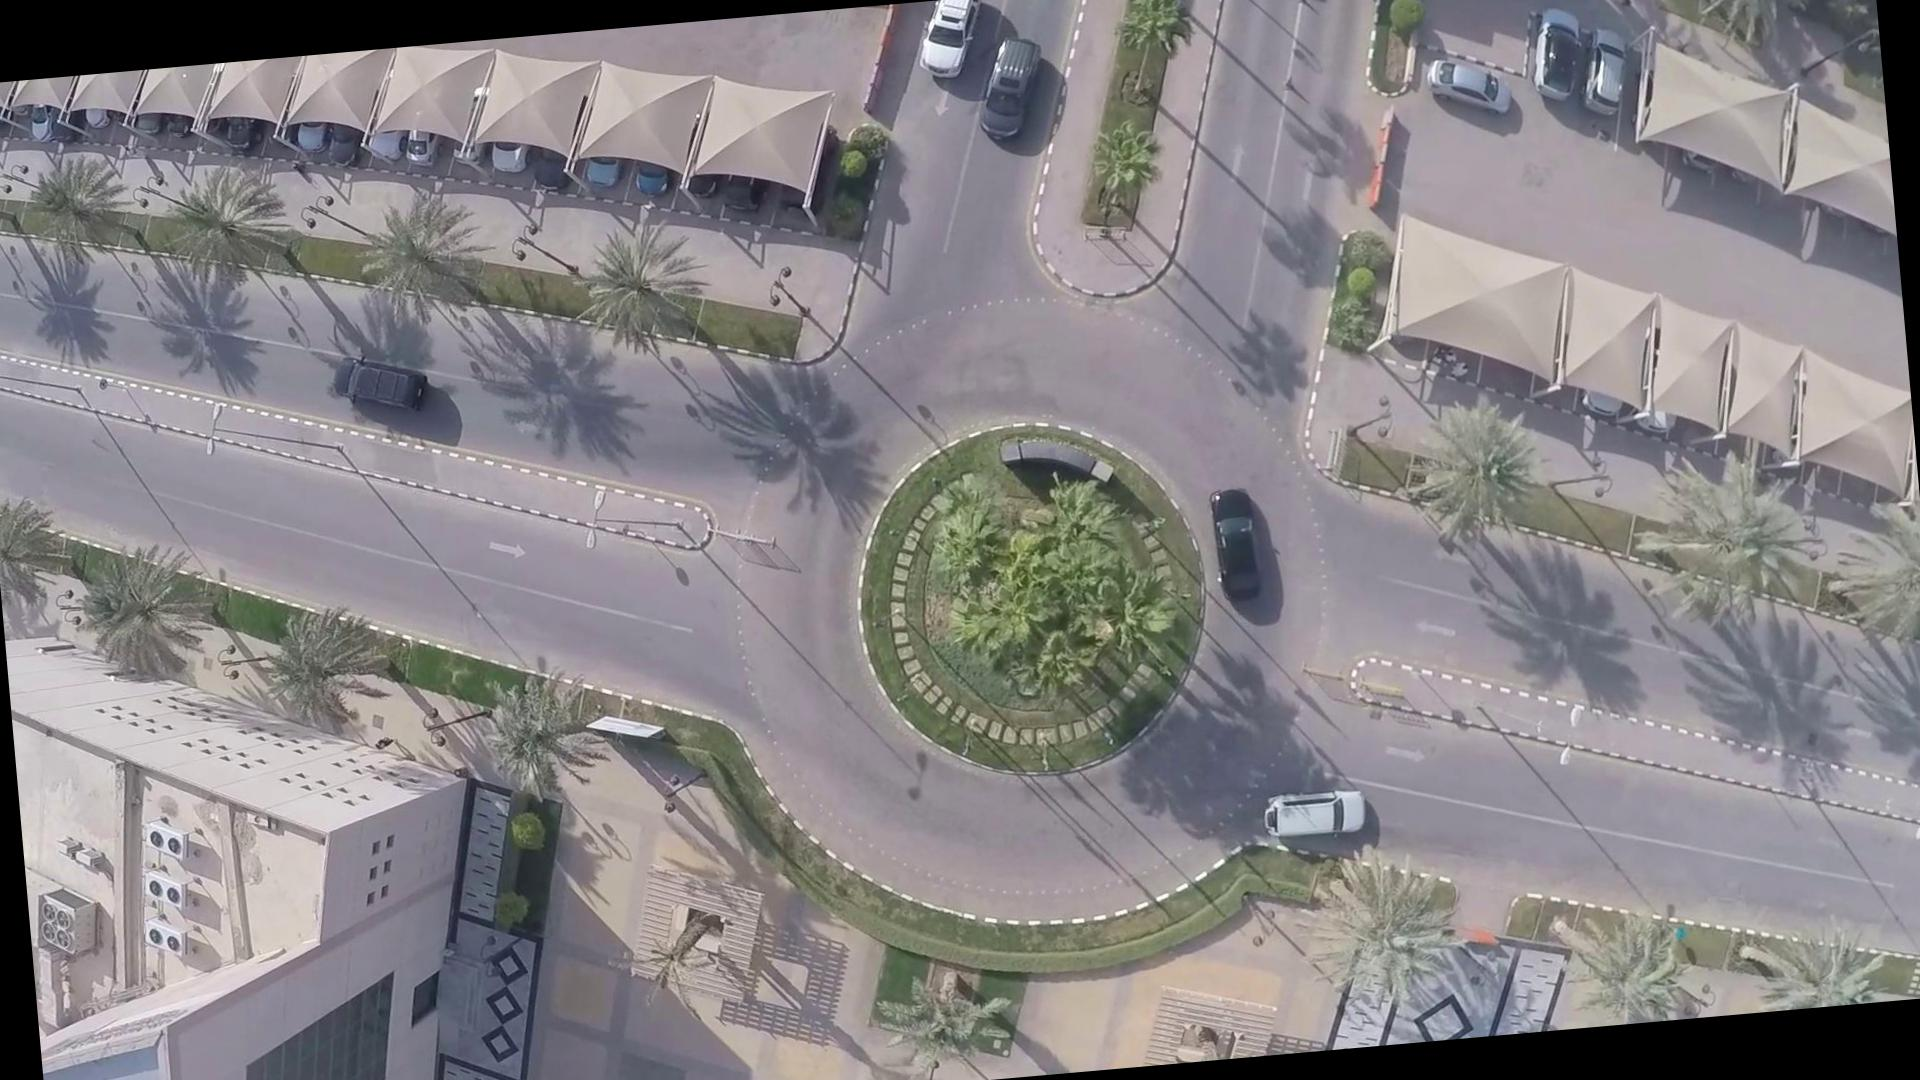vehicle: (330, 346, 436, 429), (1202, 492, 1267, 611), (975, 38, 1045, 148), (1254, 783, 1378, 843), (898, 0, 978, 89)
